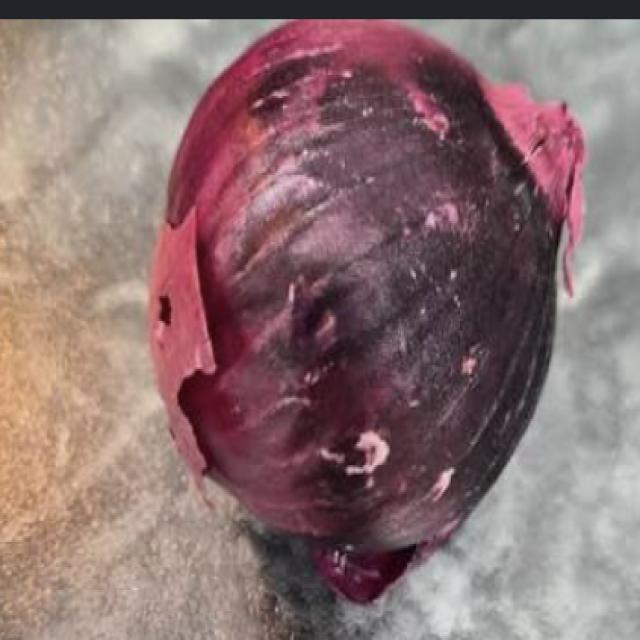mechanical_damage: (151, 25, 583, 600)
